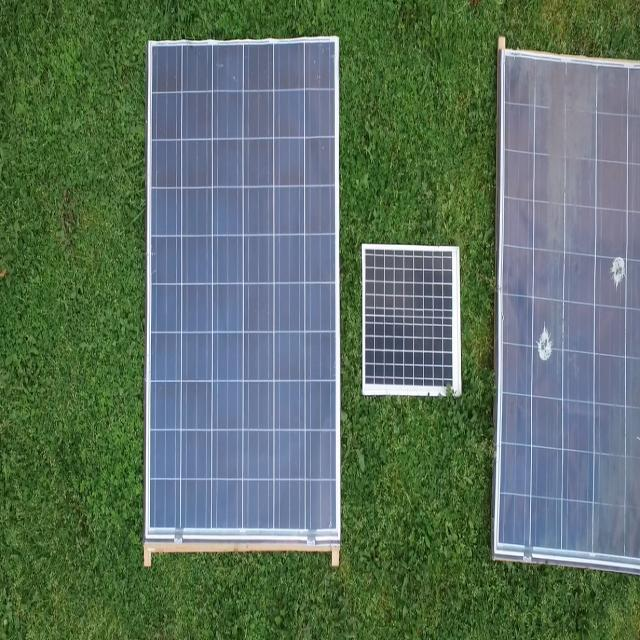faulty: (502, 56, 640, 563)
no faulty: (150, 41, 340, 551), (364, 246, 462, 394)
